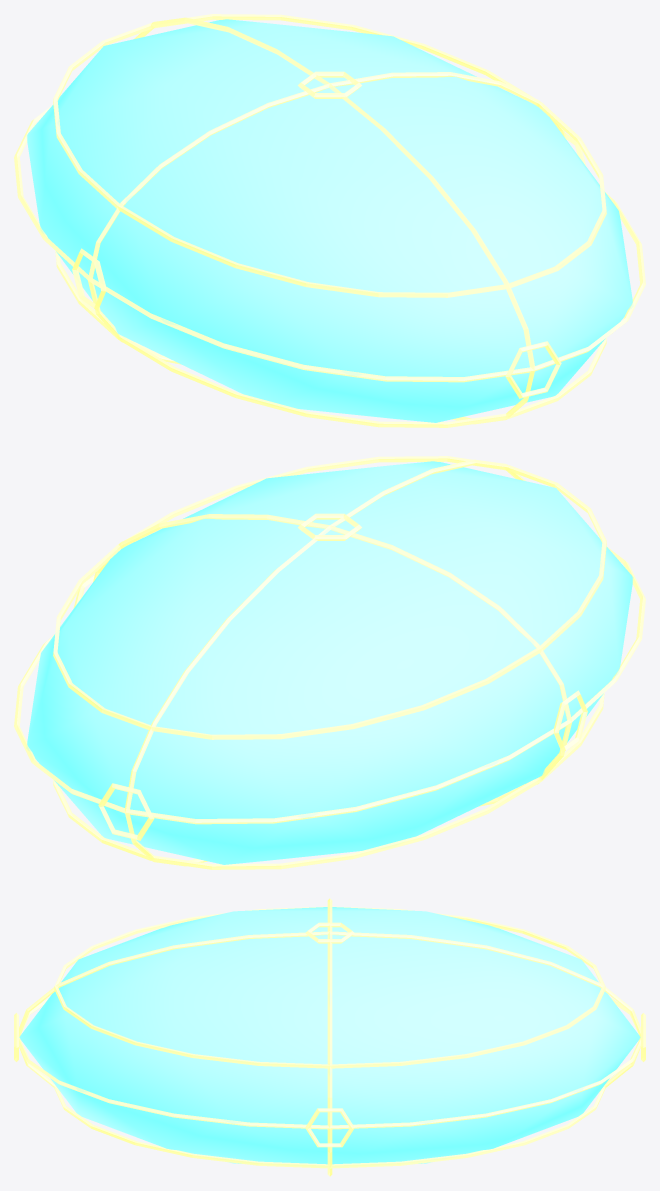
File: reinforced_particle_shield.glb
3 renders of one model, top to bottom at view 1: azimuth 30°, elevation 25°; view 2: azimuth 150°, elevation 25°; view 3: azimuth 270°, elevation 25°, orthographic. The views are drawn at different scales.
Visible parts, largest first — view 1: Cruiser_Reinforced_Particle_Shield, Cruiser_Particle_Shield_HexReinforcement; view 2: Cruiser_Reinforced_Particle_Shield, Cruiser_Particle_Shield_HexReinforcement; view 3: Cruiser_Reinforced_Particle_Shield, Cruiser_Particle_Shield_HexReinforcement.
Boxes of the visible parts, <box> form: Cruiser_Reinforced_Particle_Shield: <box>27,19,632,422</box>; Cruiser_Particle_Shield_HexReinforcement: <box>14,14,645,427</box>; Cruiser_Reinforced_Particle_Shield: <box>27,461,632,864</box>; Cruiser_Particle_Shield_HexReinforcement: <box>14,456,645,869</box>; Cruiser_Reinforced_Particle_Shield: <box>19,907,640,1164</box>; Cruiser_Particle_Shield_HexReinforcement: <box>14,898,645,1176</box>.
Size of the model in its own units: 4.24 by 2.31 by 6.2.
